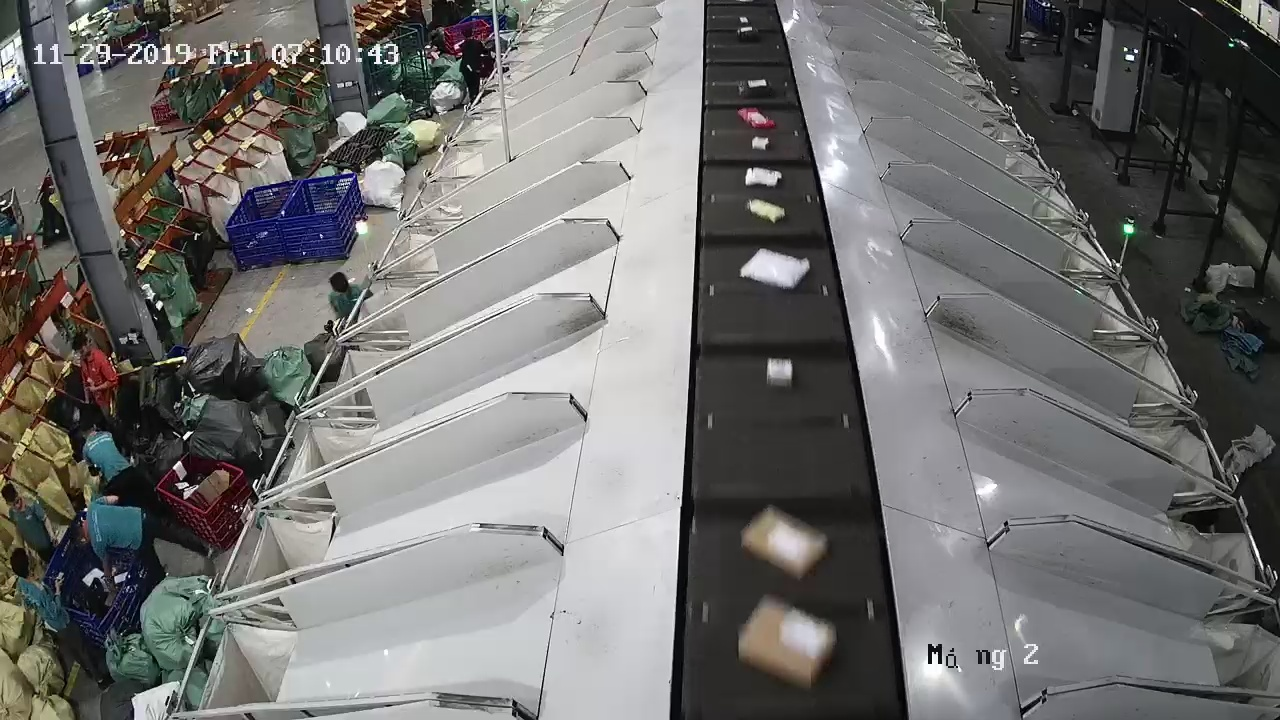parcel: (738, 597, 837, 691), (743, 506, 830, 581), (741, 249, 810, 290), (747, 198, 785, 224), (744, 167, 782, 189), (766, 357, 793, 387)
